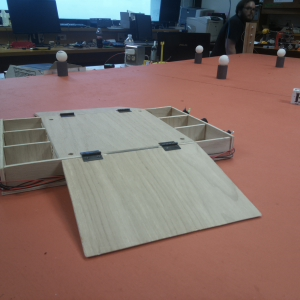blockE: (290, 87, 300, 104)
corner: (244, 22, 255, 54)
obstacle: (54, 51, 70, 76), (215, 54, 230, 79), (273, 48, 288, 67), (194, 45, 204, 65)
slope: (60, 141, 262, 257)
